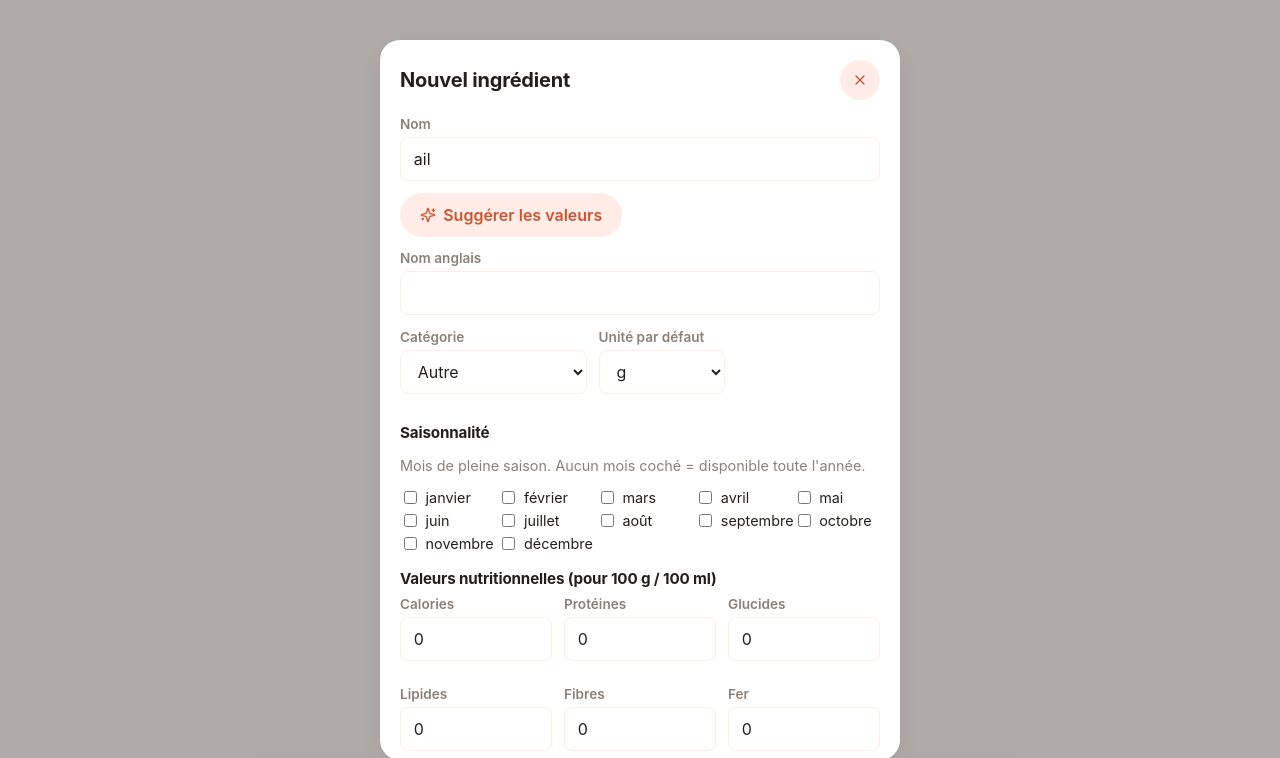
Scenario: IngredientEditModal › applies suggested nutrition values to the form when found
Click the button with id "ingredient-modal-suggest": (511, 215) [400,193,622,237]
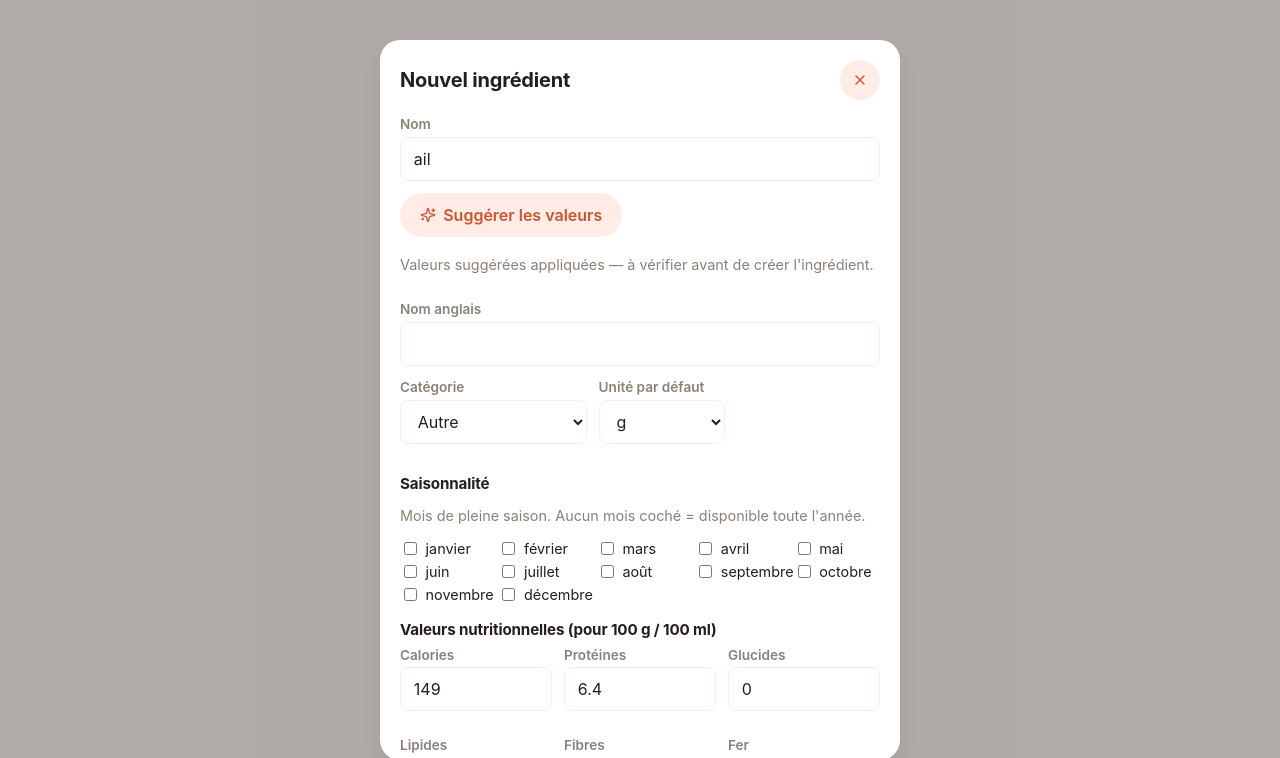
Check: the number field with id "ingredient-modal-calories_kcal" holds "149", box [400,667,552,711]
Check: the number field with id "ingredient-modal-protein_g" holds "6.4", box [564,667,716,711]
Check: the text "Valeurs suggérées appliquées" is shown, box [400,256,874,273]
